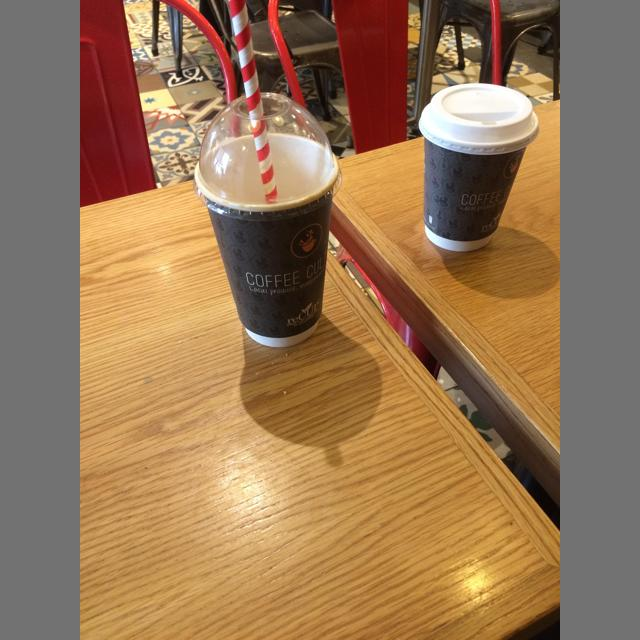litter: (195, 133, 339, 347), (193, 92, 342, 221), (424, 137, 527, 252), (228, 0, 278, 204), (419, 83, 540, 155)
